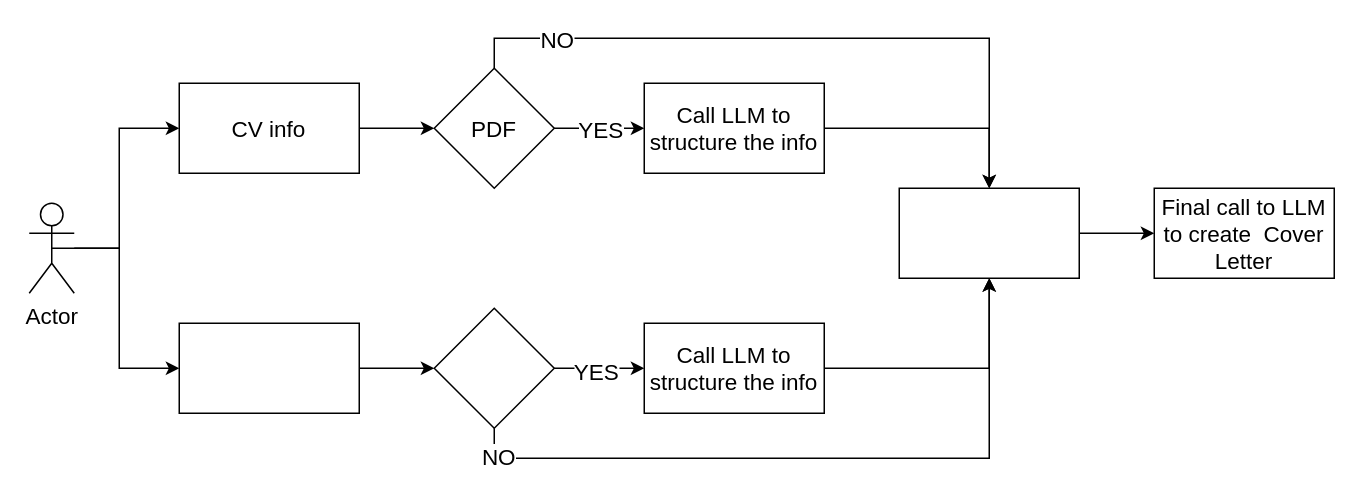
Some shapes in this 1361 by 497 pixel diagram are drawn without their labels. The shapes that lost their labels are listed below. From the top down, each one's centre as x and y in pixels, then its label:
At (x=988, y=232): "Merge CV, job description and main prompt".
At (x=268, y=367): "Job Description".
At (x=493, y=367): "URL".
